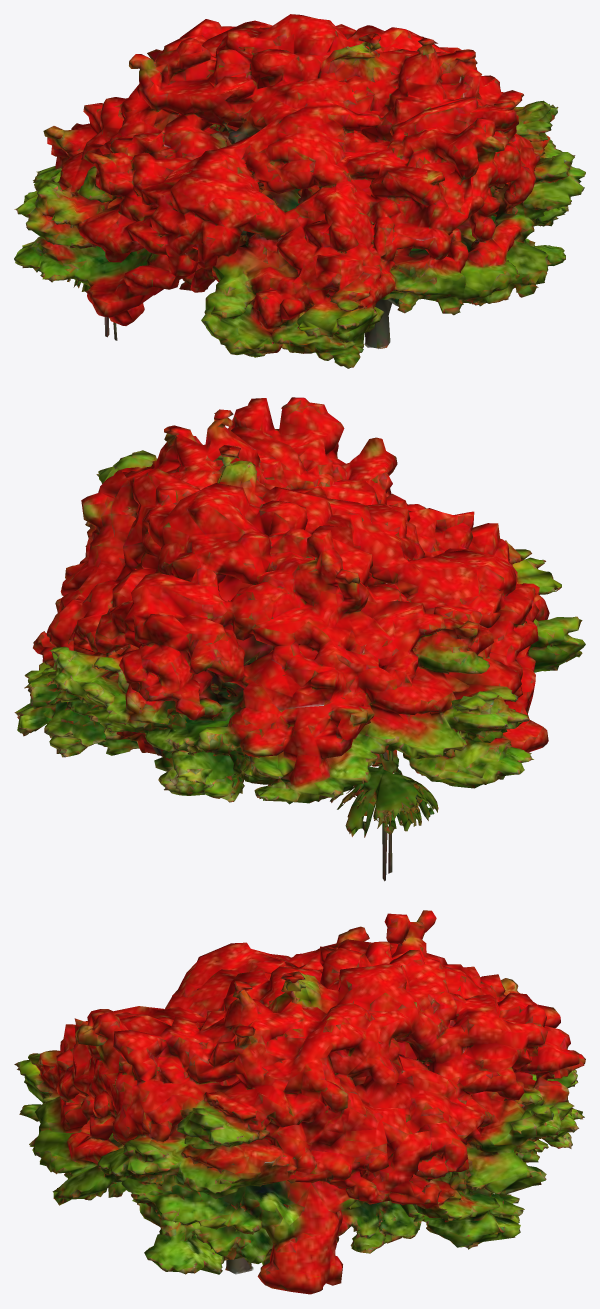
File: phuong_a.glb
The picture shows the model from 3 angles, top to bottom: view 1: azimuth 30°, elevation 25°; view 2: azimuth 150°, elevation 25°; view 3: azimuth 270°, elevation 25°; orthographic projection. The views are drawn at different scales.
Visible parts, largest first — view 1: Mesh_0; view 2: Mesh_0; view 3: Mesh_0.
Boxes of the visible parts, bbox=[...] form: Mesh_0: bbox=[14, 14, 585, 368]; Mesh_0: bbox=[14, 397, 585, 881]; Mesh_0: bbox=[14, 910, 585, 1294].
Size of the model in its own units: 1.88 by 1.17 by 1.87.
Materials: 1 (1 with a texture image).
